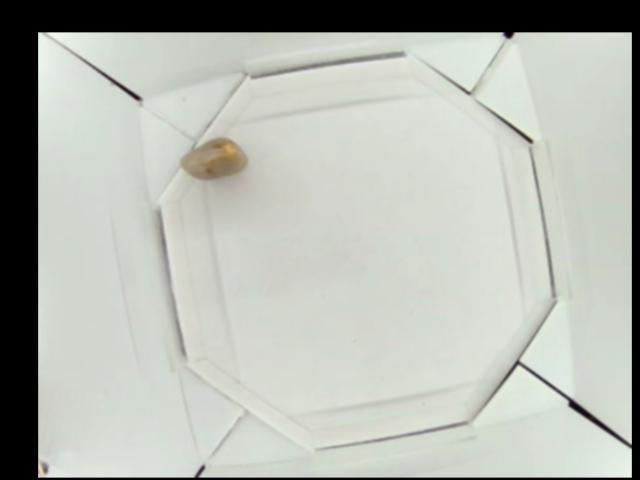Pebble: (178, 136, 250, 180)
